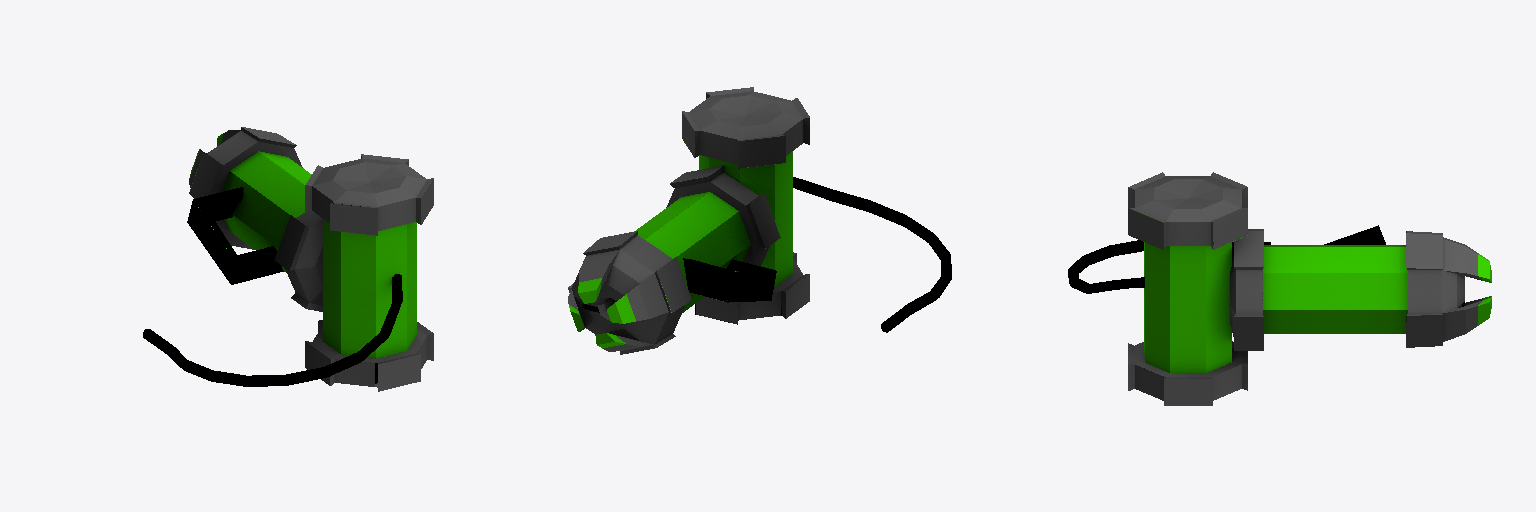
The picture shows the model from 3 angles: view 1: azimuth 30°, elevation 25°; view 2: azimuth 150°, elevation 25°; view 3: azimuth 270°, elevation 25°; orthographic projection.
Parts seen in each view (by area): view 1: Circle.005_Circle.007; view 2: Circle.005_Circle.007; view 3: Circle.005_Circle.007.
Part boxes in pixels (bbox=[...]): Circle.005_Circle.007: bbox=[143, 127, 433, 391]; Circle.005_Circle.007: bbox=[568, 87, 951, 354]; Circle.005_Circle.007: bbox=[1068, 172, 1491, 405].
Size of the model in its own units: 9.34 by 6.91 by 13.98.
2 materials, 1 textured.